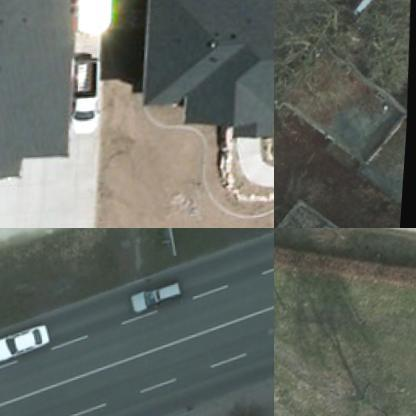camping car: (71, 0, 120, 47)
car: (0, 327, 55, 366), (130, 282, 186, 316)
pickup: (67, 48, 104, 142)
